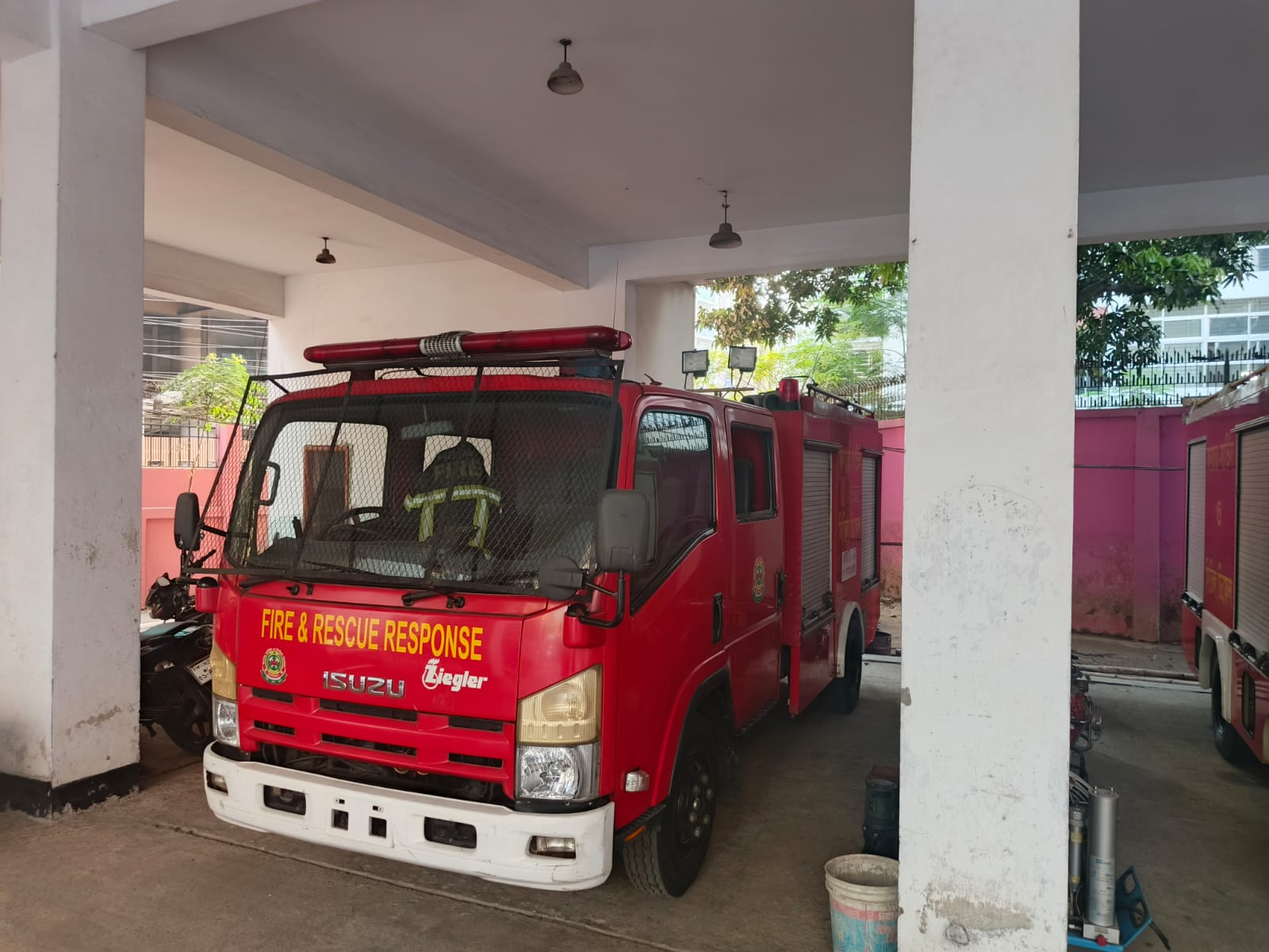Fire truck: (164, 305, 894, 906)
